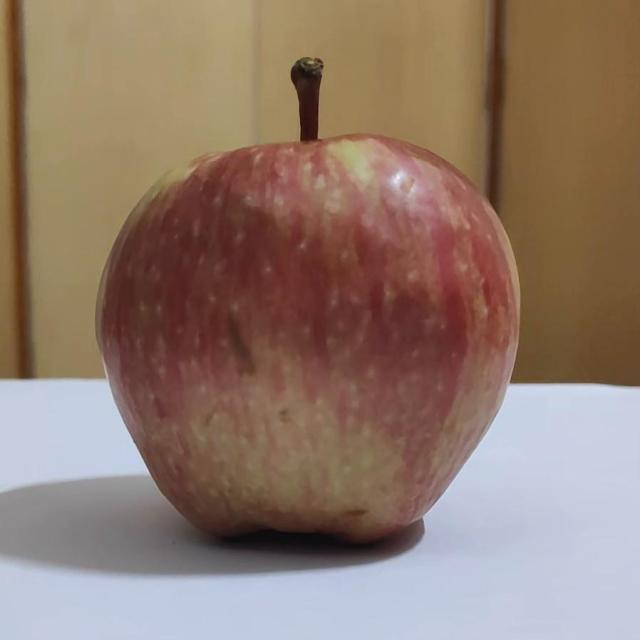Apple: (97, 58, 520, 542)
